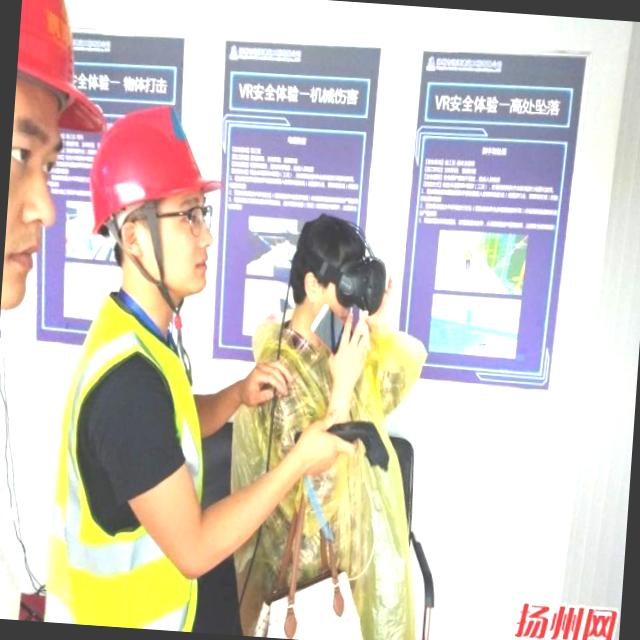goggles: (143, 192, 219, 243)
helmet: (84, 109, 222, 226)
no-helmet: (286, 202, 382, 306)
no-vest: (240, 324, 390, 614)
vest: (42, 284, 240, 634)
